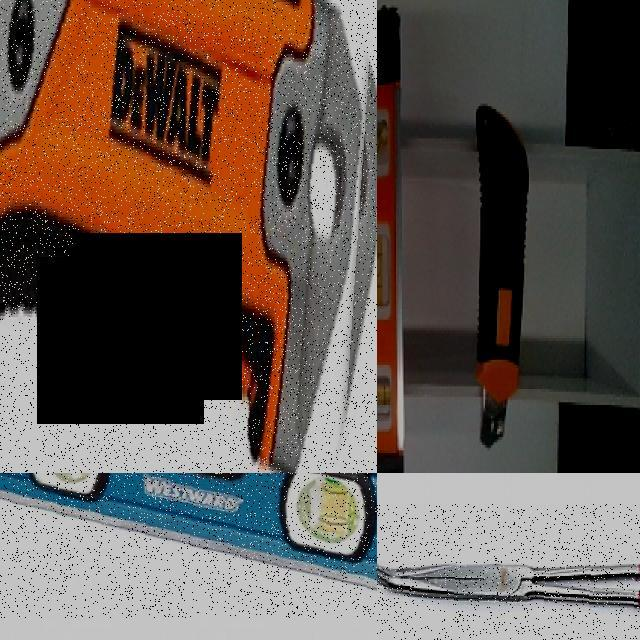estilete: (476, 105, 528, 447)
